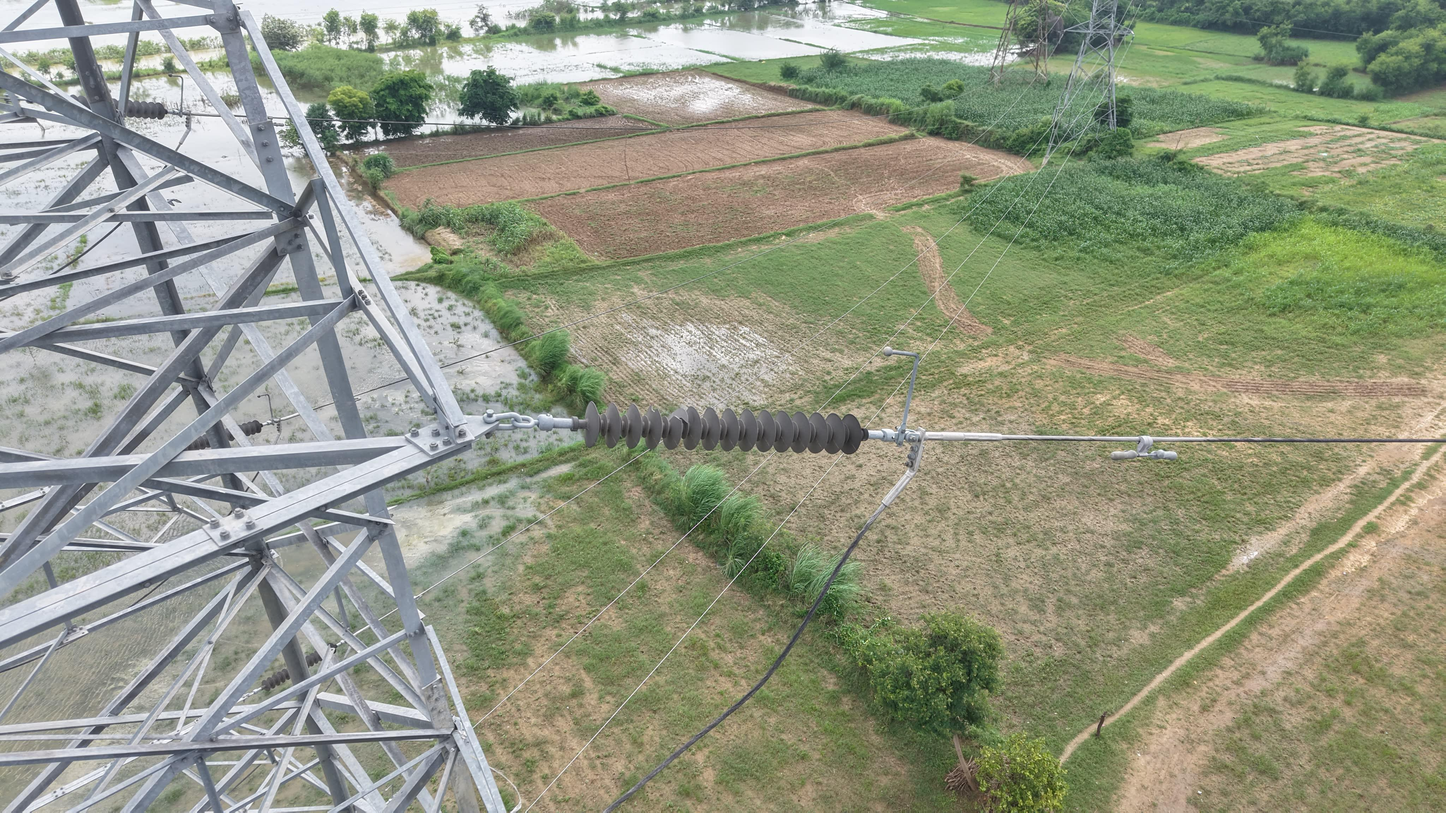broken_insulator: (645, 404, 663, 450), (664, 406, 682, 450), (675, 406, 690, 439)
